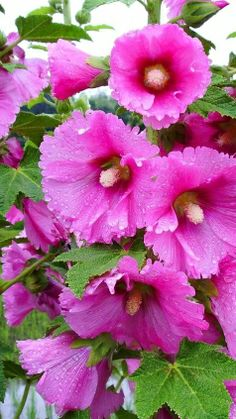Hibiscus: (36, 106, 165, 244), (61, 252, 211, 357), (151, 146, 234, 282), (106, 26, 208, 130), (14, 320, 116, 414), (40, 34, 113, 104), (3, 232, 60, 316), (1, 50, 45, 150), (22, 189, 67, 245)
